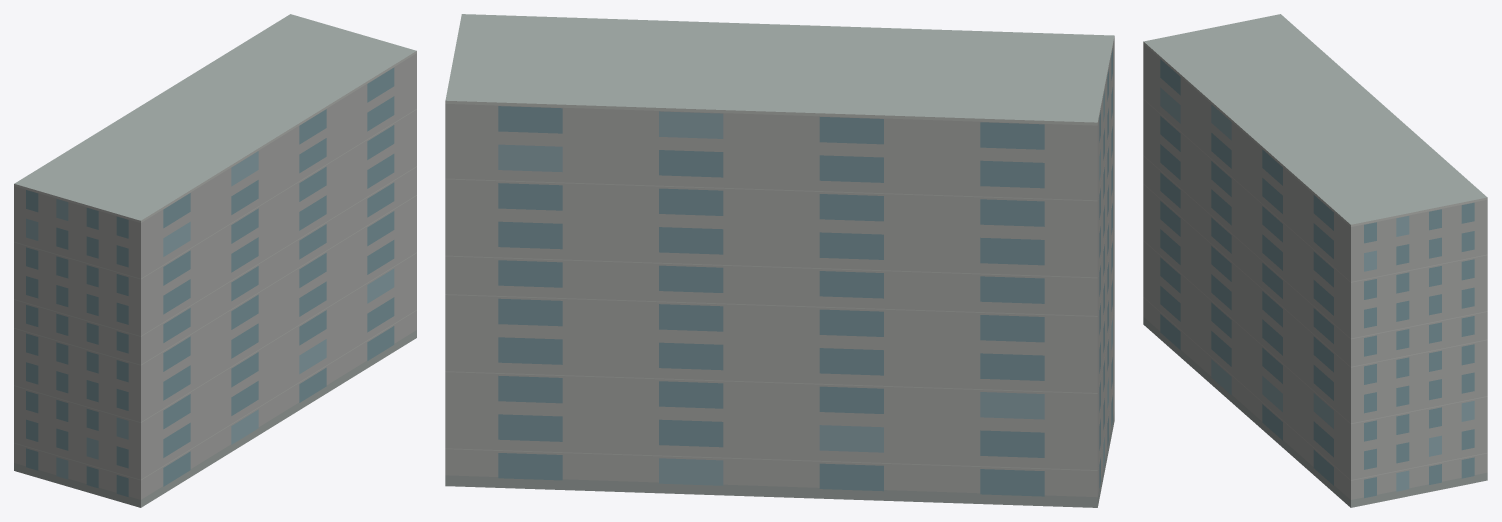
The model's file is survey-upis-32841079.glb.
The picture shows the model from 3 angles, left to right: view 1: azimuth 30°, elevation 25°; view 2: azimuth 150°, elevation 25°; view 3: azimuth 270°, elevation 25°; orthographic projection. The views are drawn at different scales.
Visible parts, largest first — view 1: survey-upis-32841079.tmp; view 2: survey-upis-32841079.tmp; view 3: survey-upis-32841079.tmp.
Boxes of the visible parts, bbox=[...] form: survey-upis-32841079.tmp: bbox=[14, 14, 416, 507]; survey-upis-32841079.tmp: bbox=[445, 14, 1114, 507]; survey-upis-32841079.tmp: bbox=[1143, 14, 1487, 507].
Bounding box in the file's own units: 48.74 × 30.5 × 33.62.
